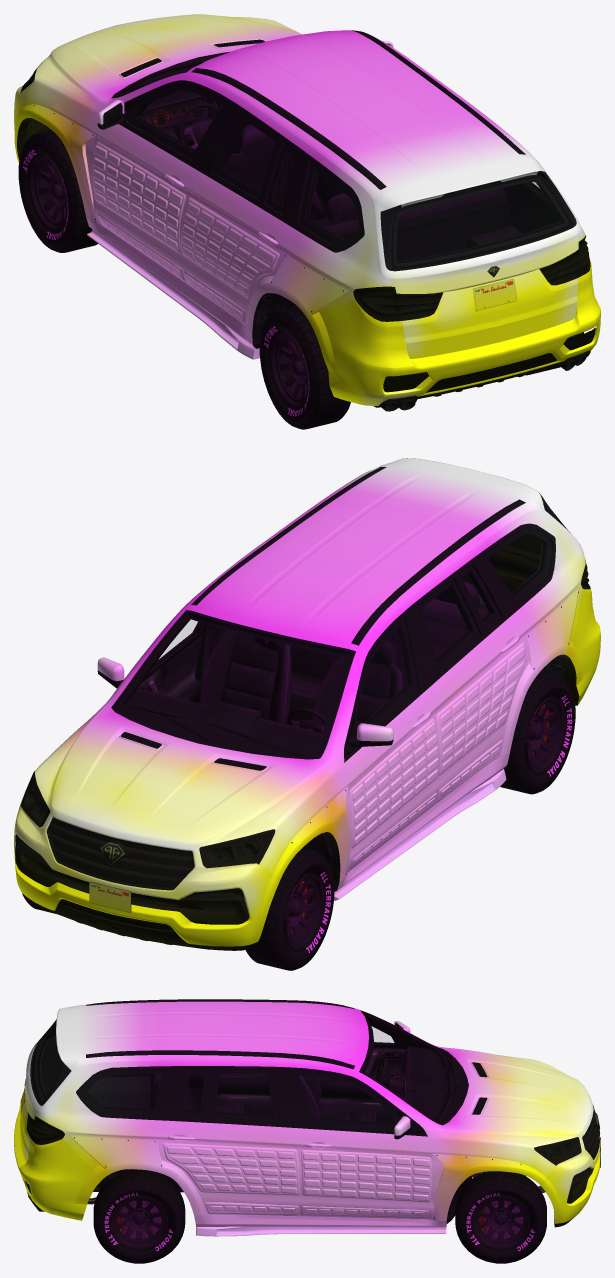
Rendered from xls2.glb.
3 views of the same model, one above another, from view 1: azimuth 30°, elevation 25°; view 2: azimuth 150°, elevation 25°; view 3: azimuth 270°, elevation 25° (orthographic). The views are drawn at different scales.
Visible parts, largest first — view 1: bodyshell, boot, chassis, bumper_r, door_dside_r, door_dside_f, bonnet, windscreen_r, wheel_lr, wheel_lf, wing_lf, window_lf (+5 smaller); view 2: bodyshell, chassis, bonnet, bumper_f, door_dside_r, door_dside_f, wheel_lf, wheel_lr, wing_lf, window_lf, boot, door_pside_f (+4 smaller); view 3: bodyshell, door_pside_r, door_pside_f, chassis, bonnet, wheel_rr, wheel_rf, wing_rf, bumper_r, window_rf, boot, window_rr (+6 smaller).
Boxes of the visible parts, box(x1,y1,x2,y2) form: bodyshell: box(20, 30, 590, 359); boot: box(380, 158, 578, 358); chassis: box(115, 59, 586, 411); bumper_r: box(314, 260, 600, 407); door_dside_r: box(181, 103, 305, 326); door_dside_f: box(92, 80, 236, 283); bonnet: box(35, 14, 301, 104); windscreen_r: box(391, 176, 573, 269); wheel_lr: box(259, 305, 350, 429); wheel_lf: box(18, 130, 97, 252); wing_lf: box(18, 75, 116, 225); window_lf: box(128, 85, 225, 159); bodyshell: box(21, 464, 590, 900); chassis: box(49, 528, 570, 891); bonnet: box(35, 707, 327, 851); bumper_f: box(14, 806, 279, 950); door_dside_r: box(411, 556, 526, 804); door_dside_f: box(344, 606, 439, 871); wheel_lf: box(245, 848, 334, 970); wheel_lr: box(500, 671, 575, 794); wing_lf: box(259, 747, 351, 882); window_lf: box(355, 618, 417, 725); boot: box(385, 458, 570, 593); door_pside_f: box(97, 622, 207, 702); bodyshell: box(31, 999, 599, 1236); door_pside_r: box(160, 1066, 300, 1216); door_pside_f: box(280, 1067, 433, 1219); chassis: box(28, 1011, 598, 1223); bonnet: box(443, 1047, 593, 1145); wheel_rr: box(93, 1170, 185, 1263); wheel_rf: box(455, 1171, 546, 1263); wing_rf: box(421, 1121, 555, 1220); bumper_r: box(14, 1105, 102, 1220); window_rf: box(292, 1071, 398, 1129); boot: box(20, 1005, 78, 1161); window_rr: box(210, 1070, 278, 1122).
Size of the model in its own units: 2.17 by 1.81 by 4.98.
18 materials, 18 textured.
